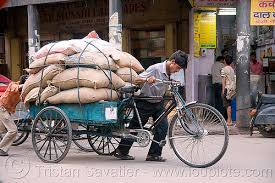handle bar: (144, 77, 180, 89)
seat: (121, 84, 142, 94)
wheel: (167, 101, 231, 170), (29, 104, 77, 166), (85, 116, 124, 156)
